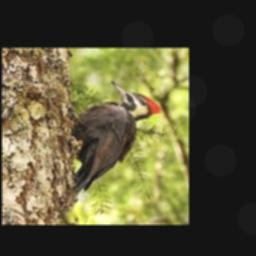Woodpecker: (71, 80, 161, 194)
